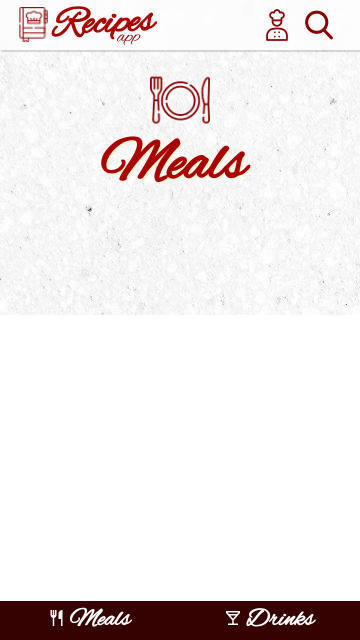
Test case: 9 - Desenvolva o botão de busca que, ao ser clicado, a barra de busca deve aparecer. O mesmo serve para escondê-la › Ao clicar no botão de busca pela primeira vez a barra de busca aparece
Step 1. Click the button with test id "search-top-btn" → (319, 25), box 298,4 -> 340,46
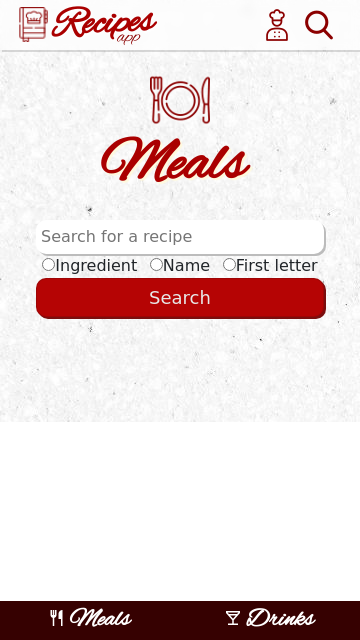
Expected: the field with test id "search-input" is shown, 36,220 -> 324,254
